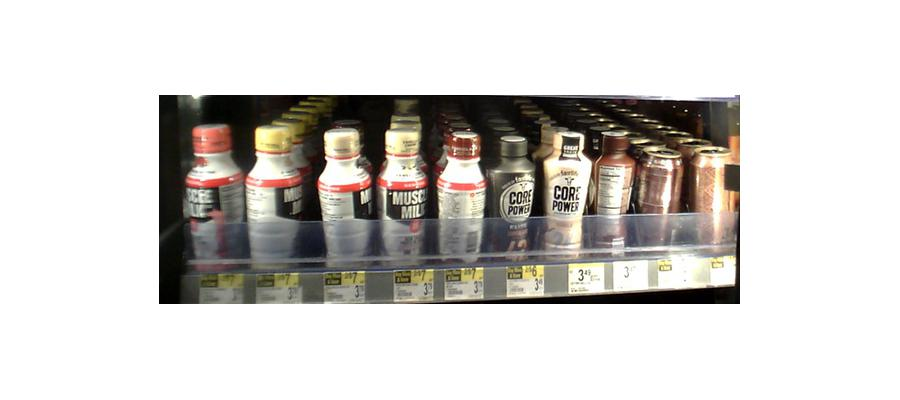bottle: (247, 125, 310, 270), (186, 122, 244, 271), (319, 128, 376, 269), (379, 119, 430, 261), (434, 124, 483, 264), (540, 127, 593, 255), (486, 133, 536, 257), (636, 136, 683, 252), (594, 125, 635, 256), (690, 139, 731, 248)
